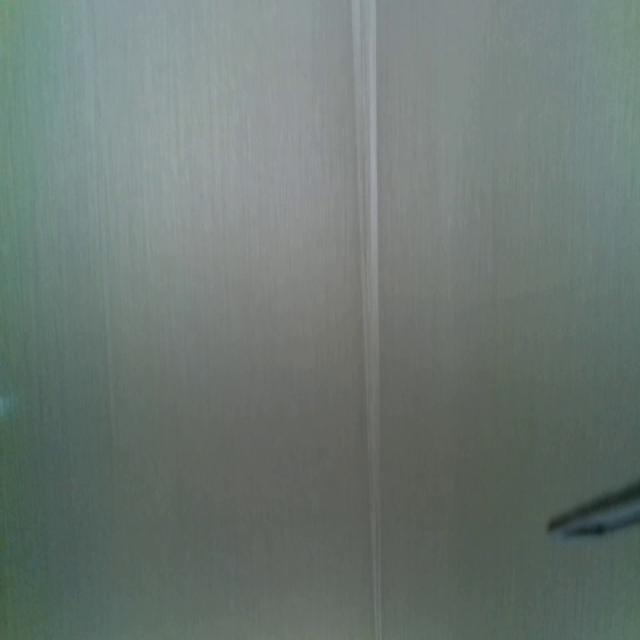crease: (351, 0, 383, 640)
